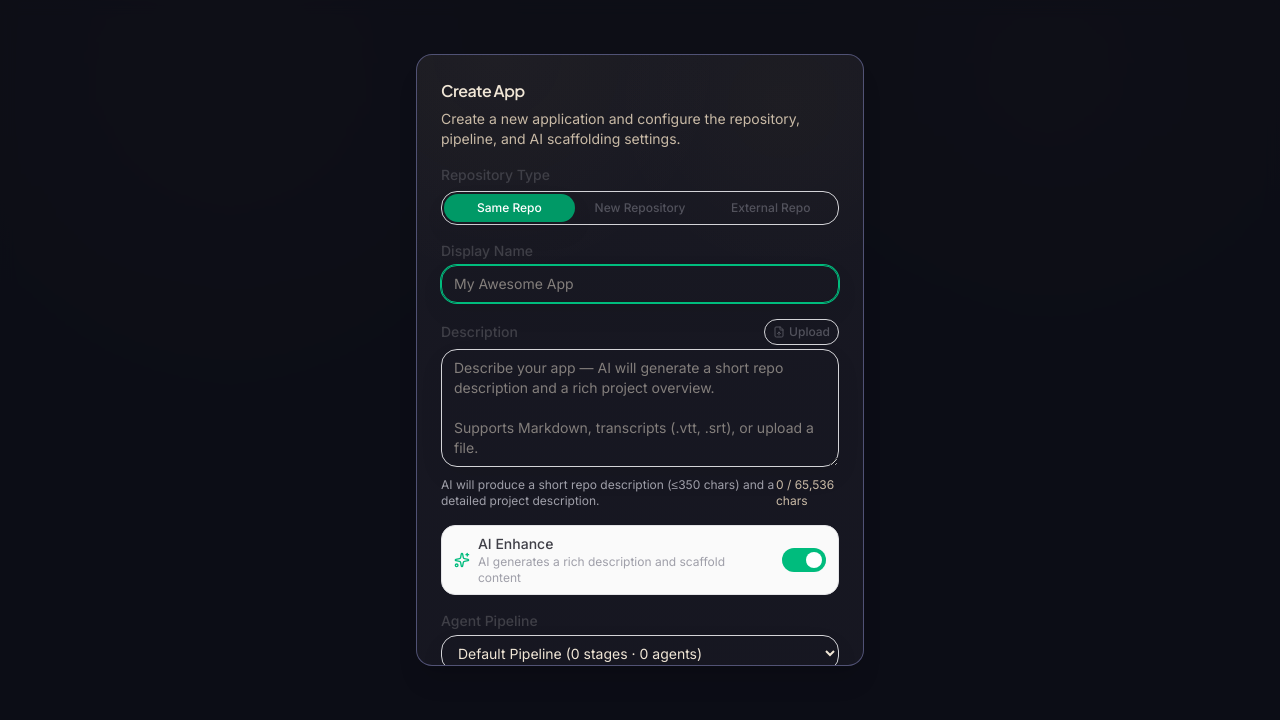
CreateAppDialog — removed fields and layout changes › shows branch as "main" in the derived-name preview for same-repo
Type "My Feature" into the field labelled "Display Name" at (640, 284), box [441, 265, 839, 303]
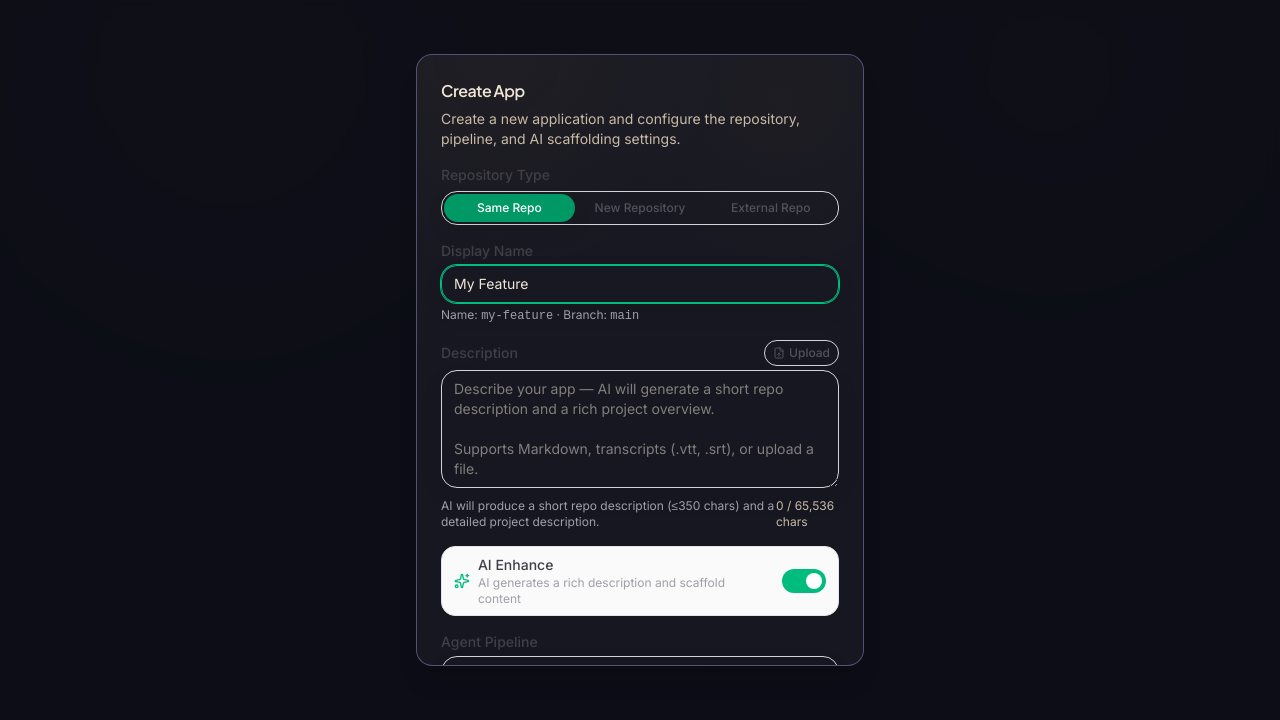
Expected: the text "main" is shown, [610, 309, 639, 323]
